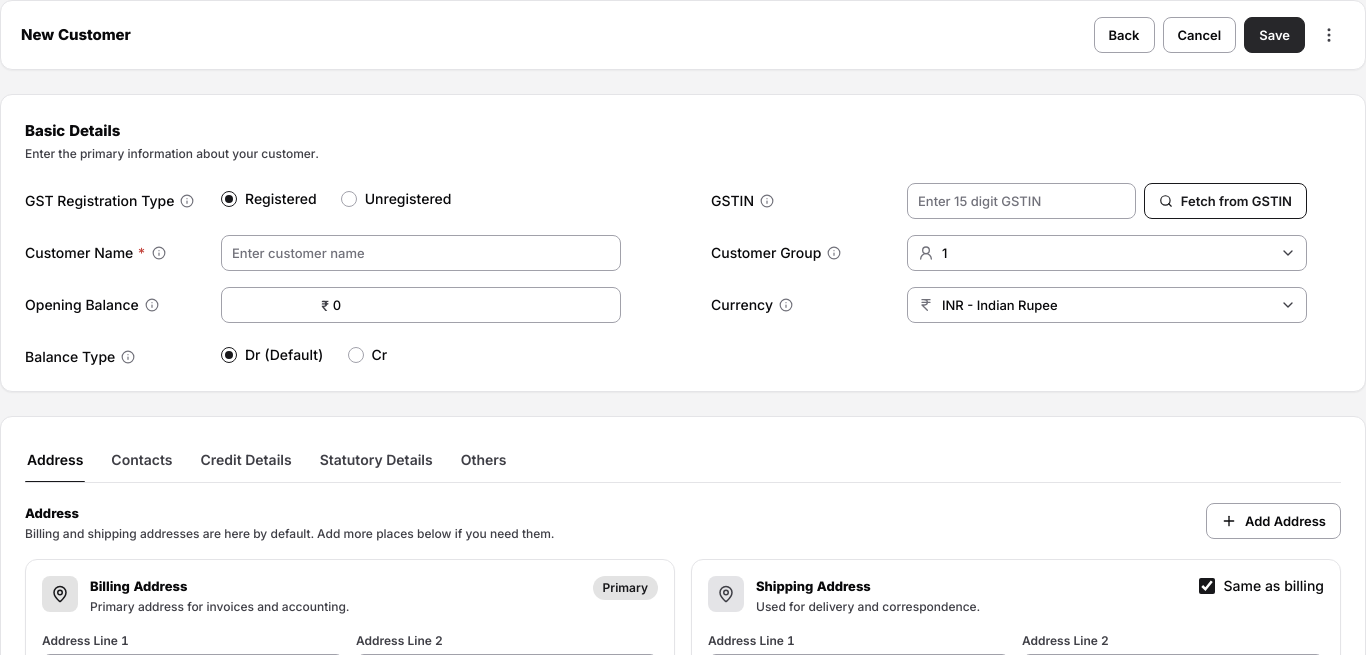
Test: the form is three cards, not one › heads each part with what it is for
Expected: the text "Enter the primary information about your customer." is shown, [25, 146, 319, 161]
Click the tab "Credit Details".
click(246, 462)  # box [198, 441, 294, 482]
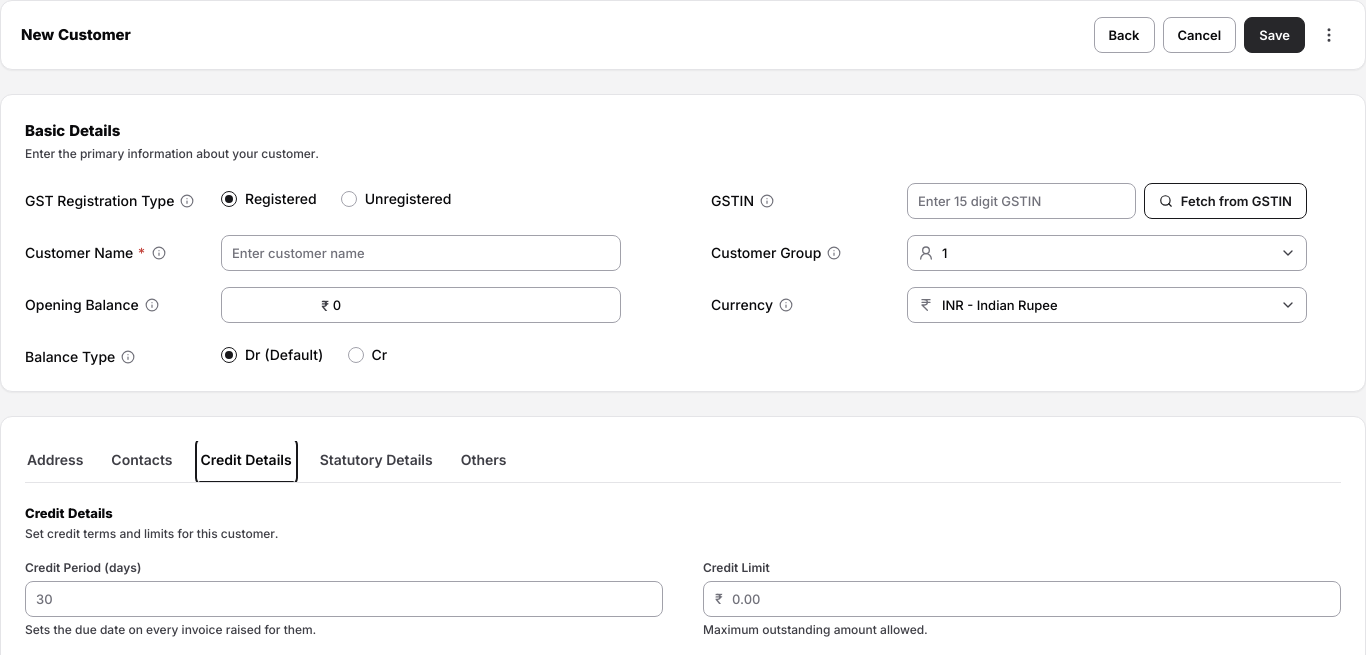
Expected: the text "Set credit terms and limits for this customer." is shown, [25, 526, 278, 541]
Click the tab "Statutory Details".
click(376, 462)  # box [318, 441, 435, 482]
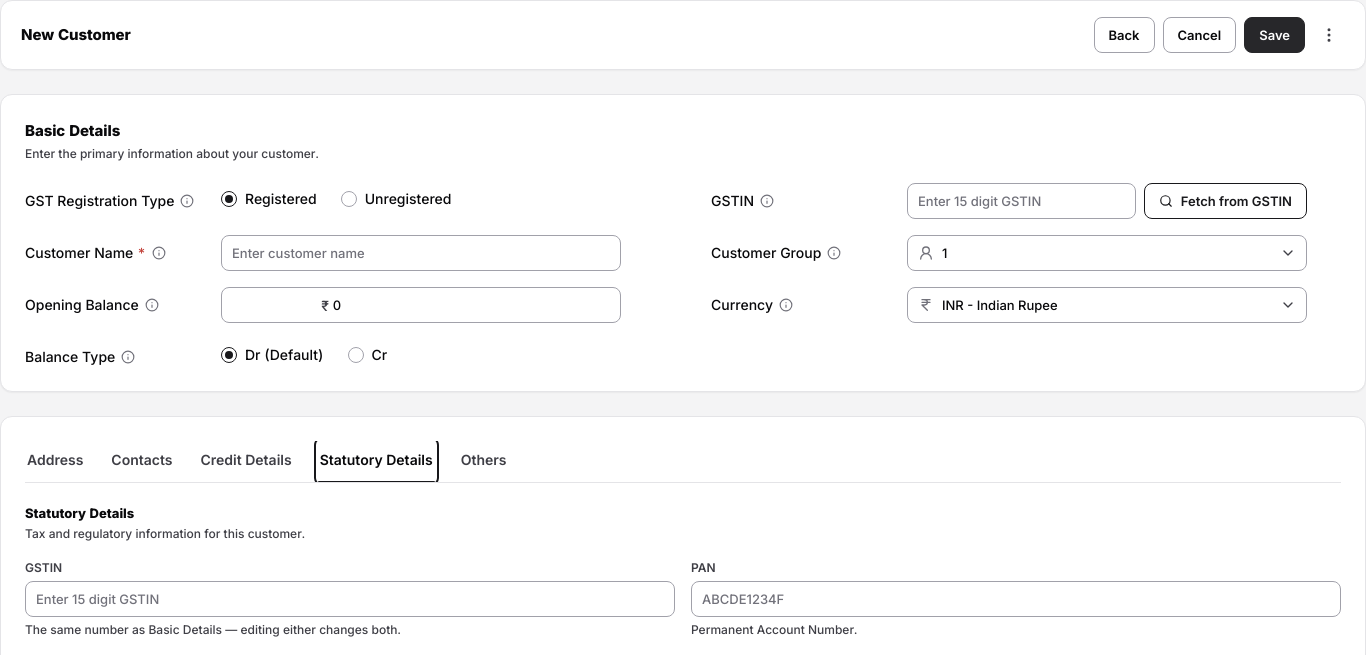
Expected: the text "Tax and regulatory information for this customer." is shown, [25, 526, 305, 541]
Click the tab "Others".
click(484, 462)  # box [459, 441, 508, 482]
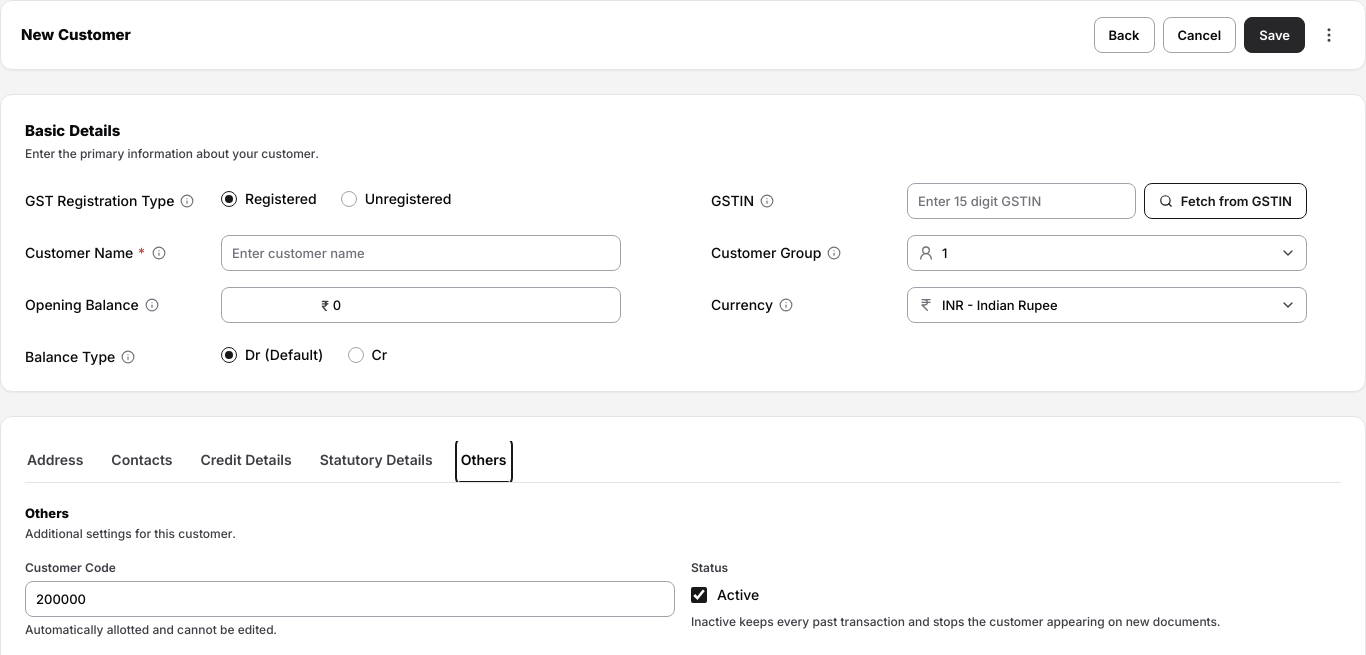
Expected: the text "Additional settings for this customer." is shown, [25, 526, 236, 541]
